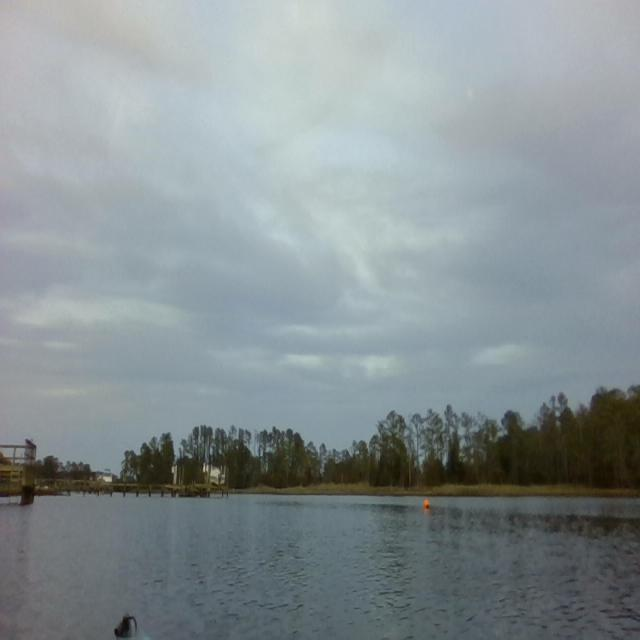Buoy: (422, 497, 431, 510)
